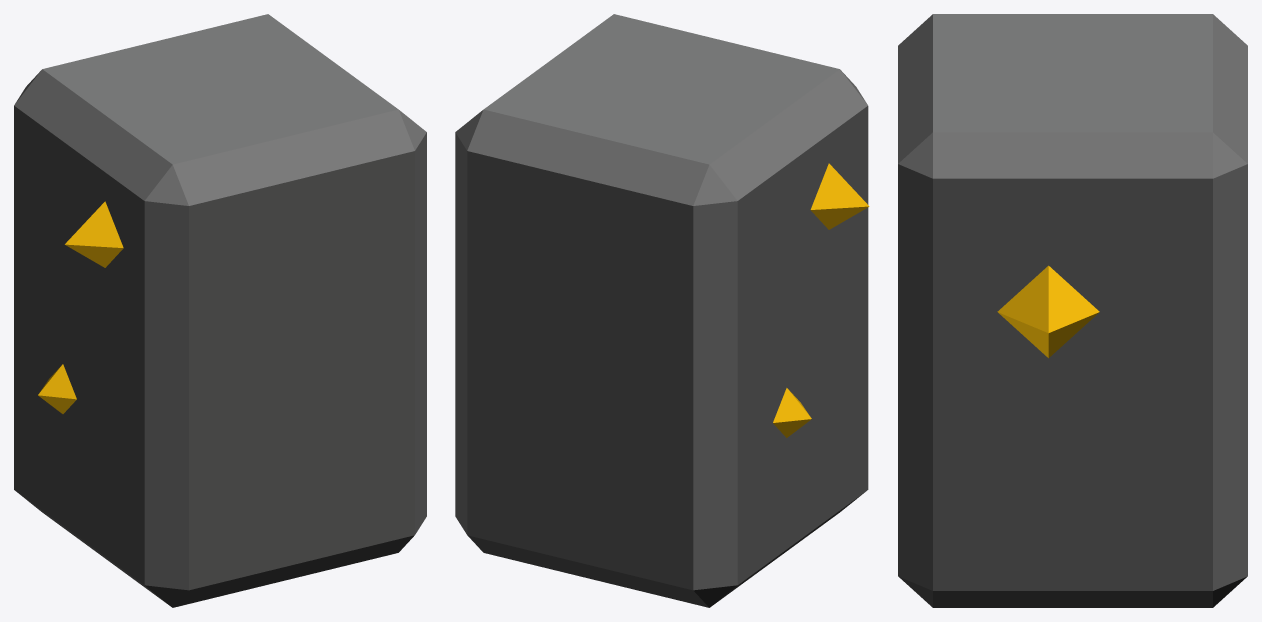
The model's file is m_kub_ore_vrickMid.FBX.
3 renders of one model, left to right at view 1: azimuth 30°, elevation 25°; view 2: azimuth 150°, elevation 25°; view 3: azimuth 270°, elevation 25°, orthographic. The views are drawn at different scales.
Parts seen in each view (by area): view 1: m_kub_ore_vrickMid; view 2: m_kub_ore_vrickMid; view 3: m_kub_ore_vrickMid.
Boxes of the visible parts, x1=… form: m_kub_ore_vrickMid: x1=14, y1=14, x2=426, y2=607; m_kub_ore_vrickMid: x1=455, y1=14, x2=869, y2=607; m_kub_ore_vrickMid: x1=898, y1=14, x2=1247, y2=607.
Bounding box in the file's own units: 1.29 × 1.5 × 1.
